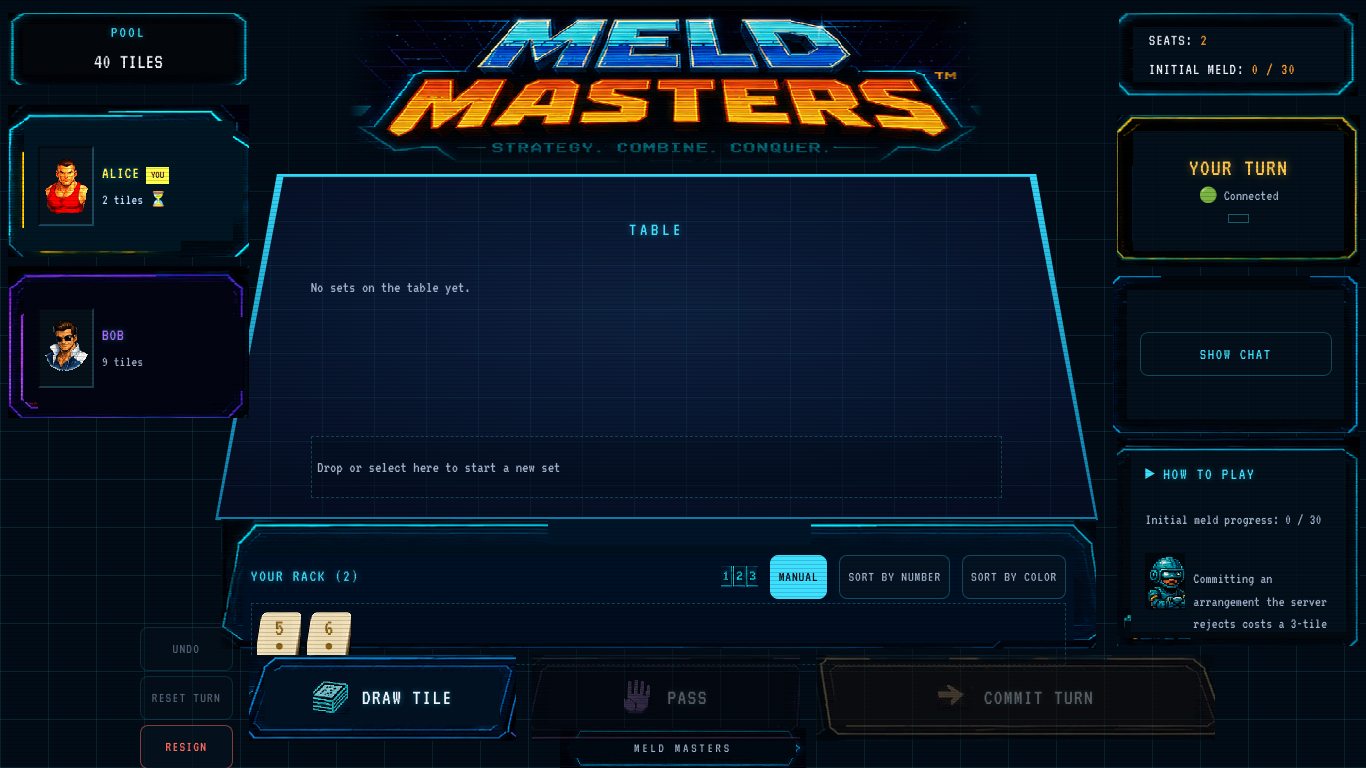
Scenario: TabletopPage layout -- chat disclosure (Phase 8) › chat toggles accessibly, exposing its expanded/collapsed state
Step 1. Click the button "Show chat" → (1236,354), box [1140,332,1332,376]
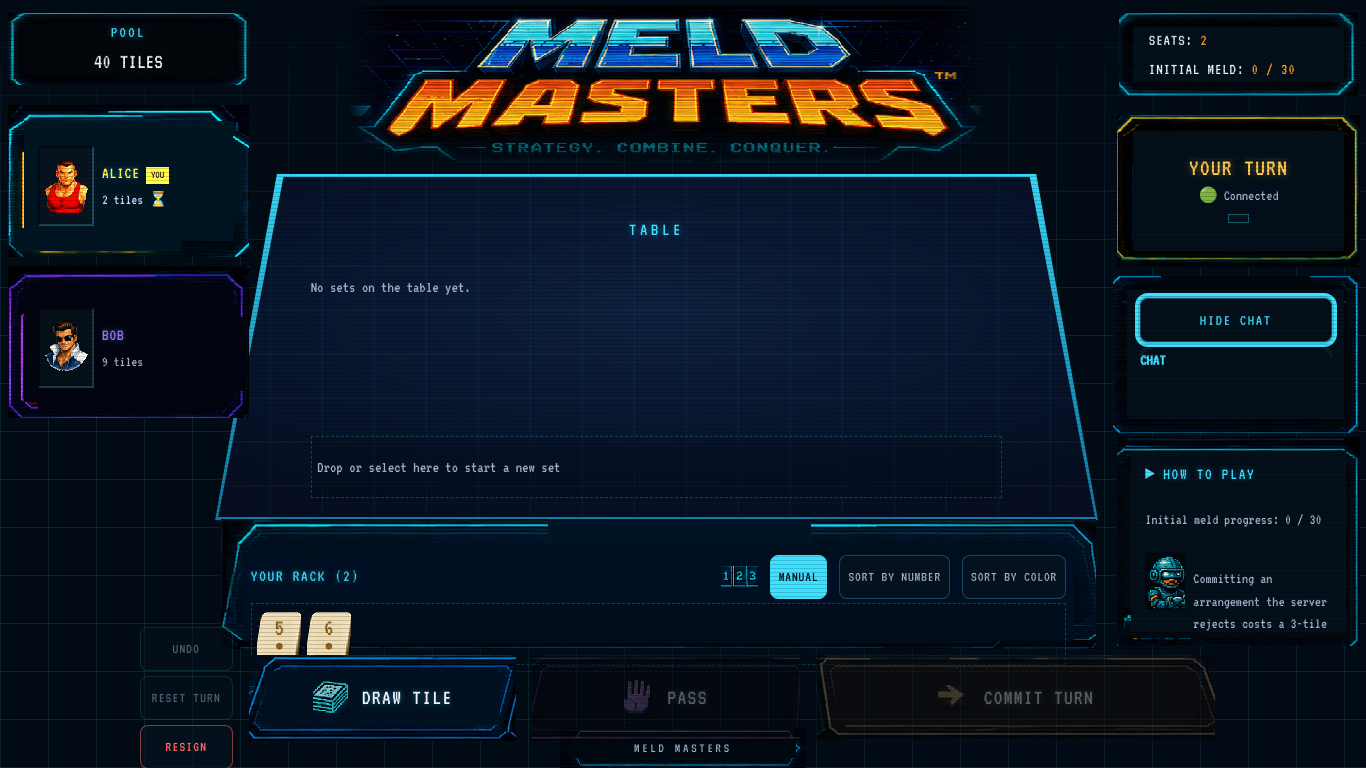
Now the button "Hide chat" is expanded
Now the button "Hide chat" is shown
Step 2. Click the button "Hide chat" → (1236,320), box [1140,298,1332,342]
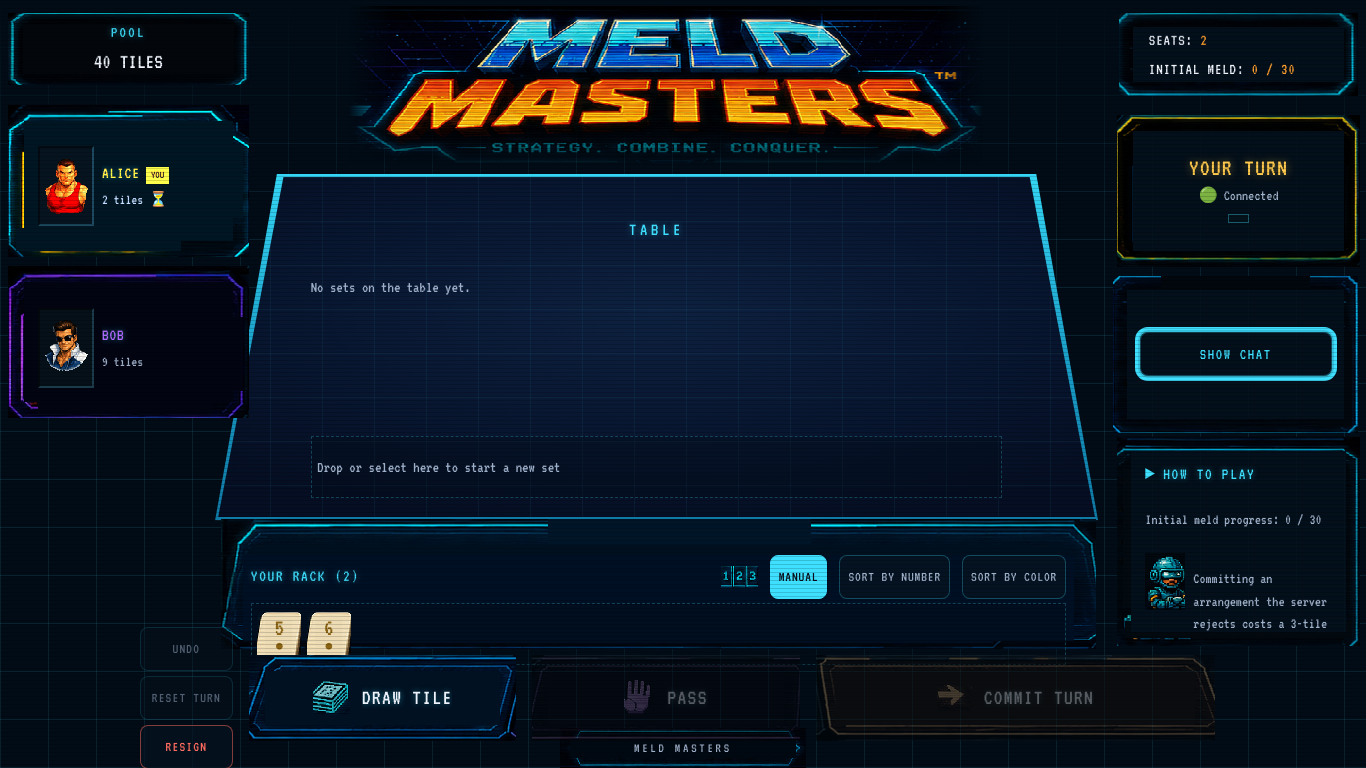
Now the button named "Hide chat" is collapsed, box [1140,332,1332,376]
